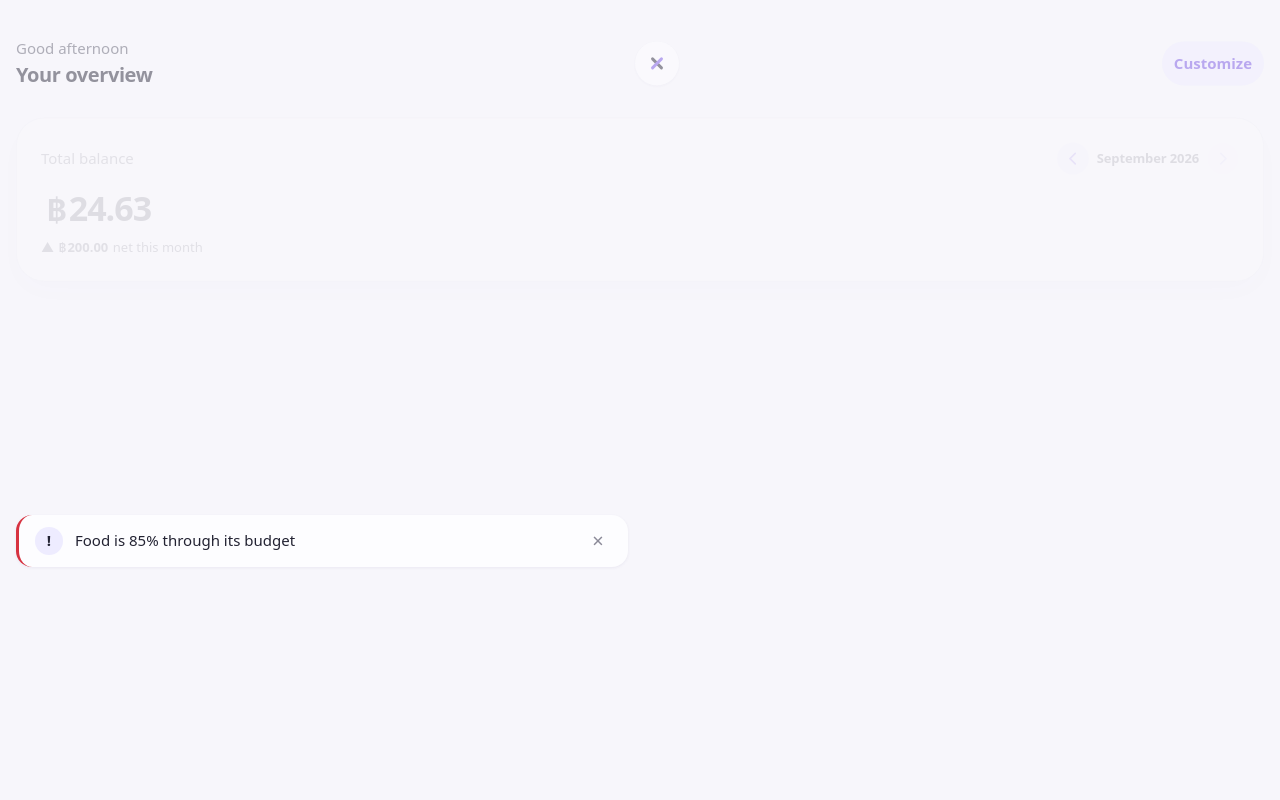
DashboardScreen › shows a dismissible anomaly card and hides it on dismiss
Expected: the text "Food is 85% through its budget" is shown, [75,530,295,550]
Click the button named "Dismiss" at (598, 541), box [584,527,612,555]
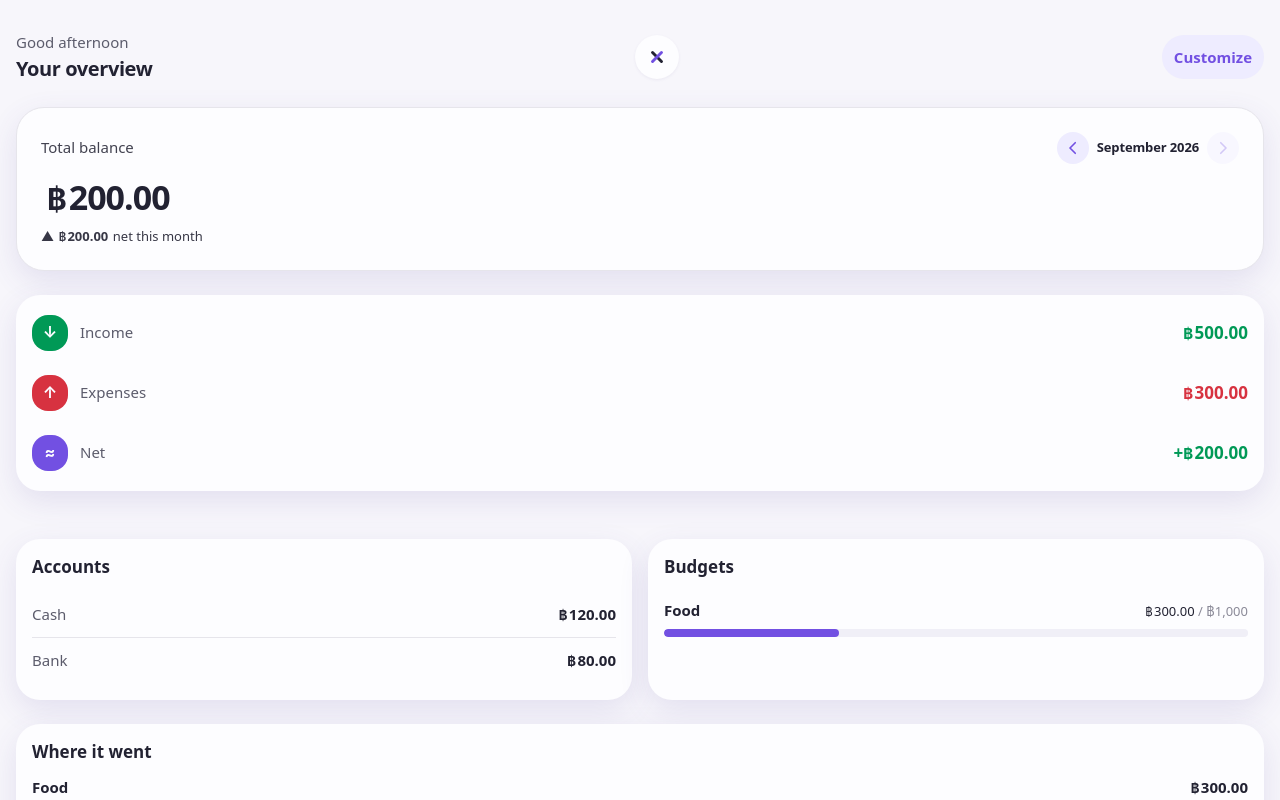
Expected: the text "85% through its budget" is gone
